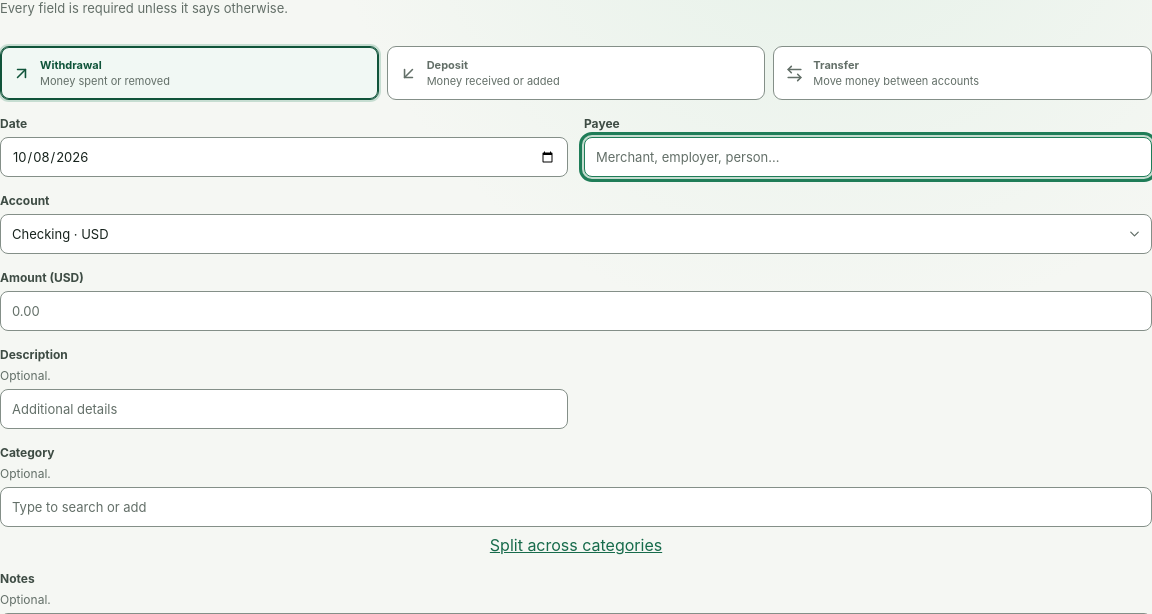
it: splitting a transaction in the form › carries the chosen category and the whole amount into the first leg
In the field with placeholder "Type to search or add": point(576, 507) [0,487,1151,527], type "Food"
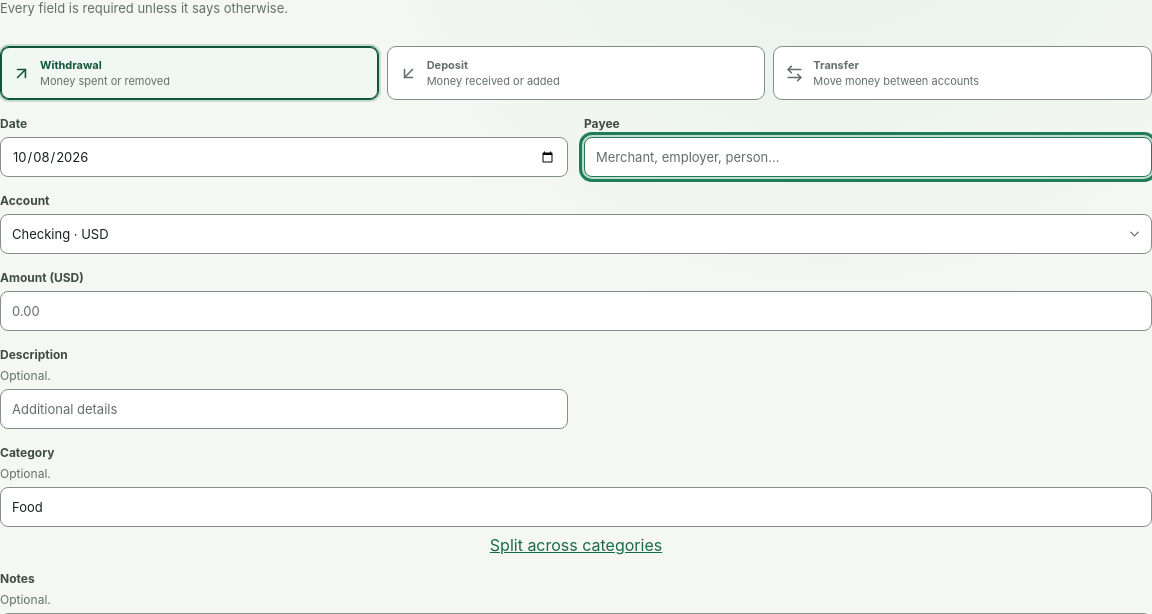
In the field labelled "Amount (USD)": point(576, 311) [0,291,1151,331], type "100"
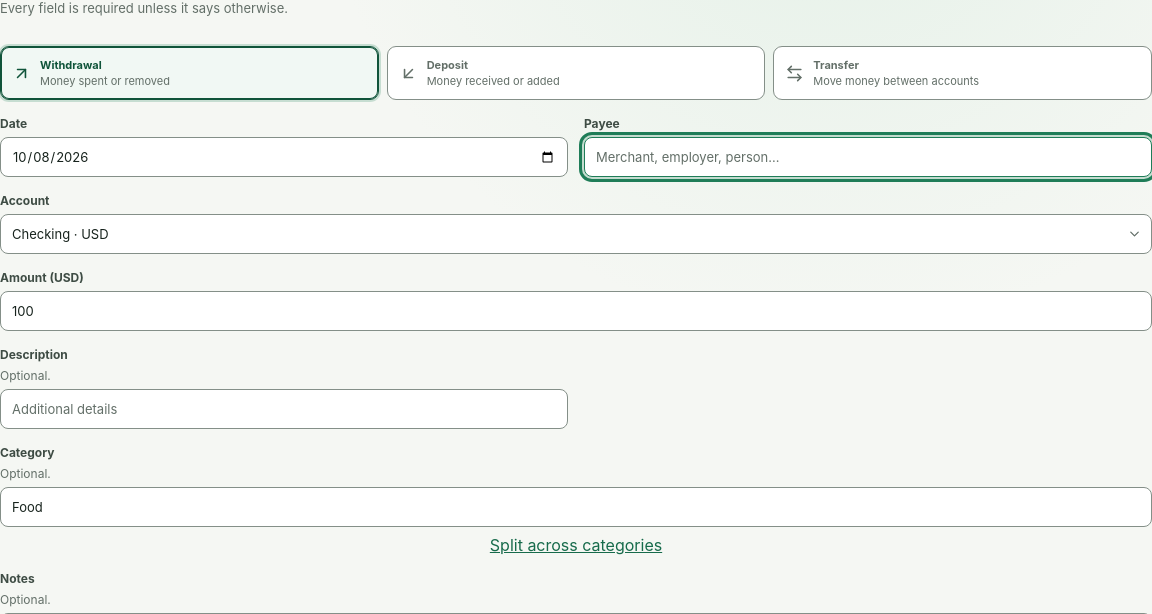
Click the button "Split across categories": point(576, 545) [0,535,1151,555]
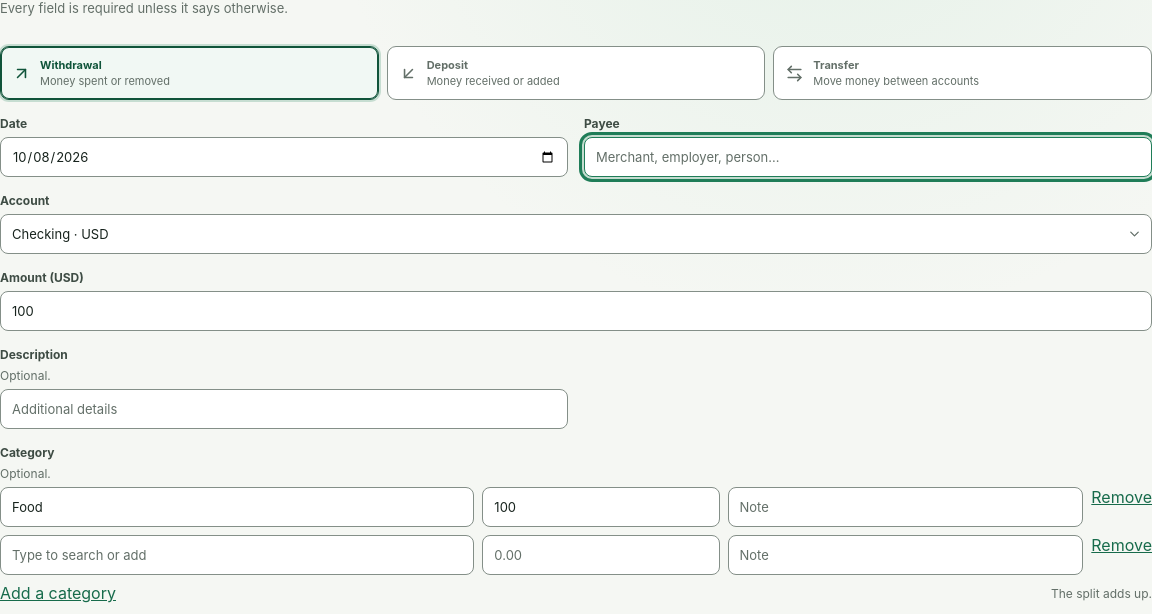
expect the field with placeholder "Type to search or add" holds "Food": met, box [0,487,474,527]
expect the field named "Amount for category 1 (USD)" holds "100": met, box [482,487,720,527]
